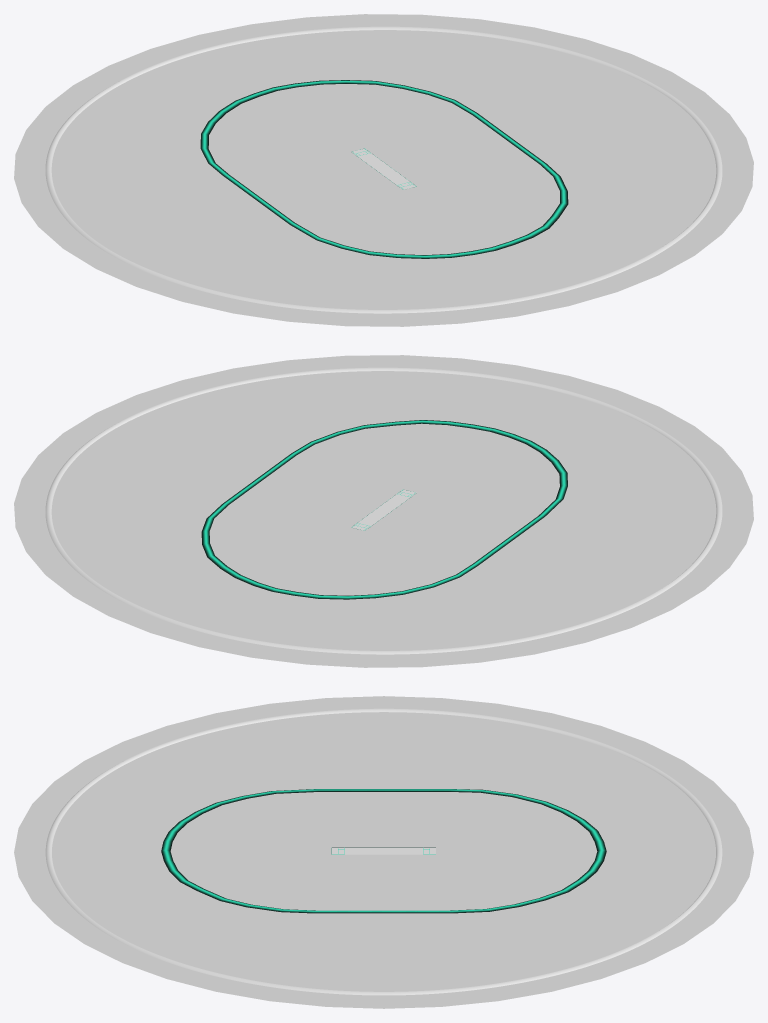
The model's file is Ground.fbx.
The picture shows the model from 3 angles, top to bottom: view 1: azimuth 30°, elevation 25°; view 2: azimuth 150°, elevation 25°; view 3: azimuth 270°, elevation 25°; orthographic projection.
Parts seen in each view (by area): view 1: polySurface175, polySurface174, polySurface173, polySurface177, polySurface176; view 2: polySurface175, polySurface174, polySurface173, polySurface177, polySurface176; view 3: polySurface175, polySurface174, polySurface173, polySurface177, polySurface176.
Part boxes in pixels (left/top/right/bottom): polySurface175: left=14, top=14, right=753, bottom=326; polySurface174: left=208, top=84, right=559, bottom=254; polySurface173: left=45, top=26, right=722, bottom=313; polySurface177: left=200, top=80, right=568, bottom=258; polySurface176: left=351, top=148, right=416, bottom=189; polySurface175: left=14, top=355, right=753, bottom=667; polySurface174: left=209, top=423, right=559, bottom=595; polySurface173: left=45, top=367, right=722, bottom=654; polySurface177: left=201, top=420, right=567, bottom=599; polySurface176: left=351, top=489, right=416, bottom=530; polySurface175: left=14, top=696, right=753, bottom=1008; polySurface174: left=170, top=792, right=597, bottom=910; polySurface173: left=45, top=708, right=722, bottom=995; polySurface177: left=161, top=789, right=606, bottom=913; polySurface176: left=332, top=848, right=435, bottom=854.
Size of the model in its own units: 14301 by 56.79 by 14301.
